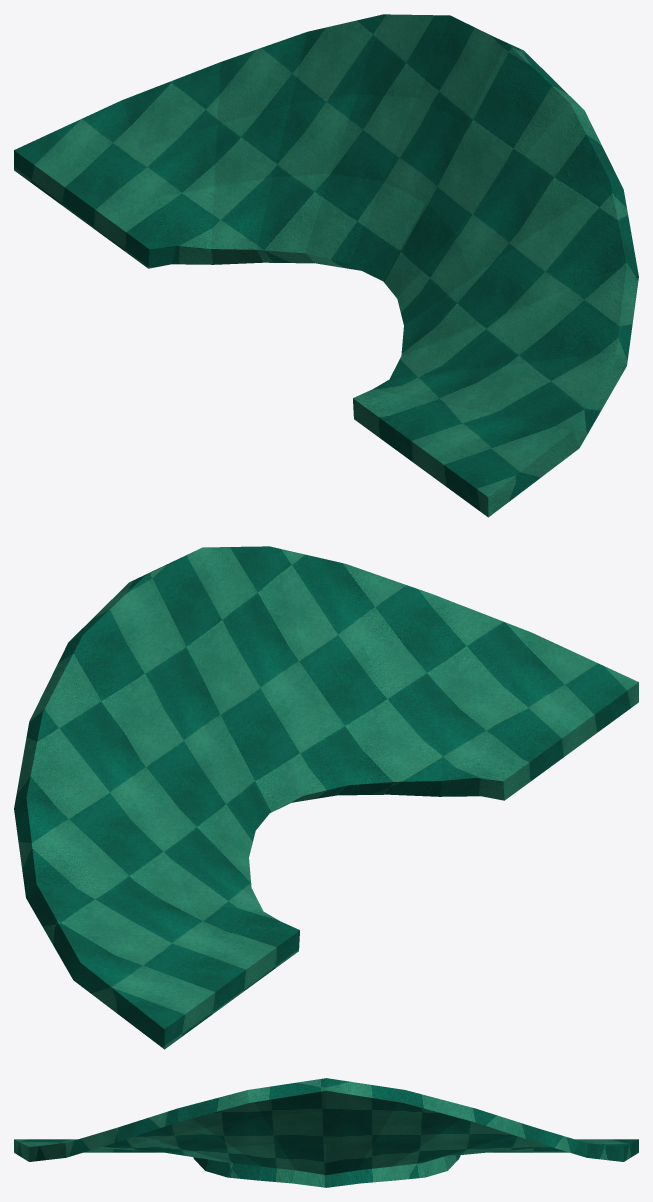
Rendered from CurveLowPloy.gltf.
3 views of the same model, one above another, from view 1: azimuth 30°, elevation 25°; view 2: azimuth 150°, elevation 25°; view 3: azimuth 270°, elevation 25° (orthographic). The views are drawn at different scales.
Visible parts, largest first — view 1: CurveLowPloy_glb; view 2: CurveLowPloy_glb; view 3: CurveLowPloy_glb.
Boxes of the visible parts, x1,y1,x2,y2 form: CurveLowPloy_glb: [14, 14, 638, 517]; CurveLowPloy_glb: [14, 546, 638, 1049]; CurveLowPloy_glb: [14, 1078, 638, 1187].
Size of what is drawn, in the model's own units: 4.68 by 3.9 by 14.
Materials: 1 (1 with a texture image).
